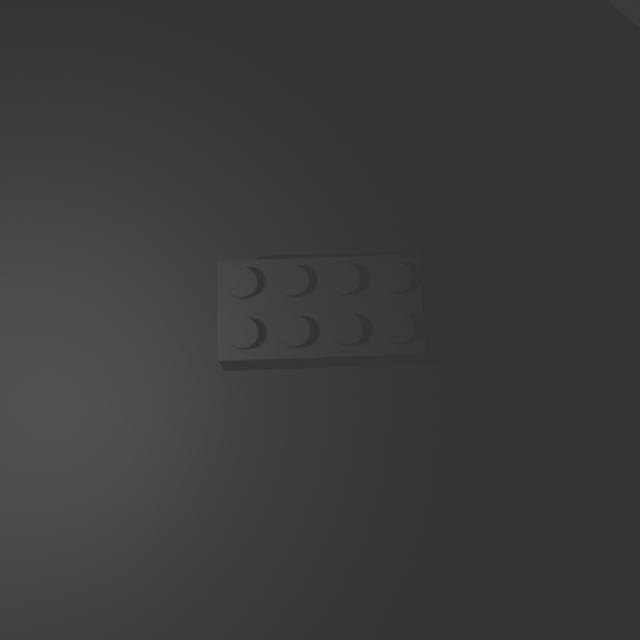lego_2x4: (216, 251, 427, 371)
